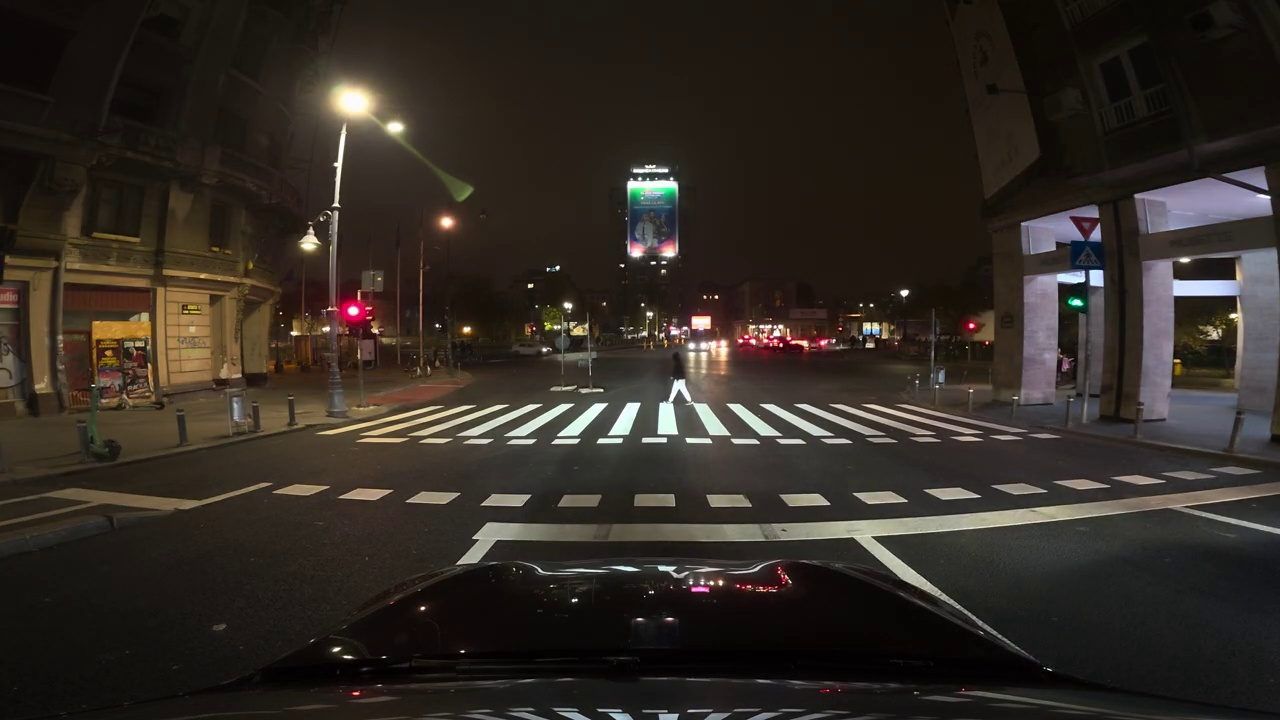acesa: (333, 87, 372, 118), (299, 232, 324, 256), (434, 213, 458, 233), (384, 121, 406, 139)
